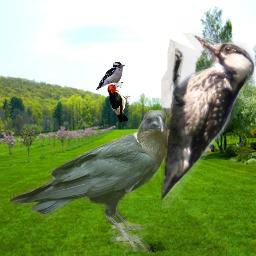Crow: (10, 110, 168, 252)
Woodpecker: (161, 33, 255, 209), (107, 84, 131, 124), (96, 62, 125, 90)
